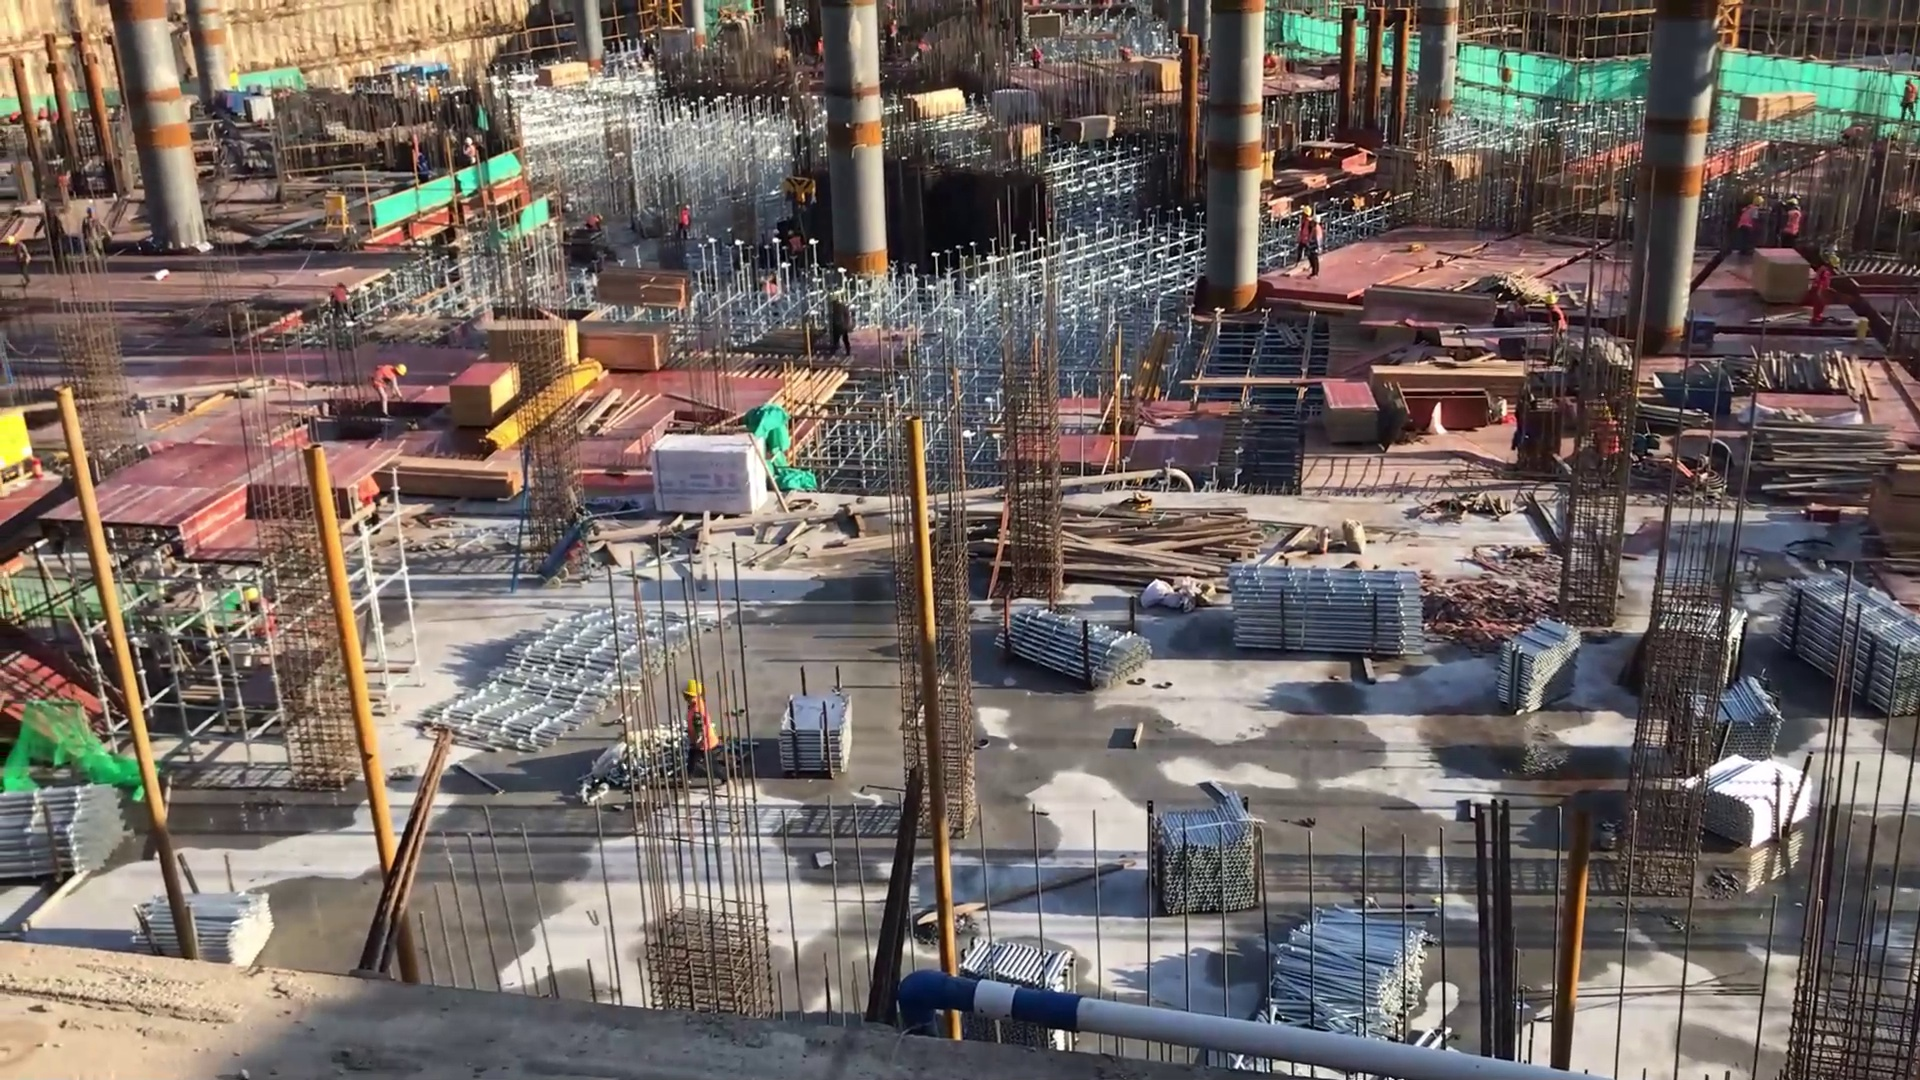board: (448, 359, 525, 436), (1319, 380, 1386, 447)
ebox: (1, 407, 33, 488), (315, 187, 358, 244)
helmet: (683, 677, 708, 705), (1543, 292, 1560, 309), (1826, 252, 1842, 269), (394, 363, 411, 377), (1521, 292, 1534, 305), (1786, 197, 1800, 209), (1300, 206, 1313, 218), (416, 151, 427, 163), (1751, 195, 1764, 206), (465, 134, 475, 149), (1312, 214, 1323, 226), (787, 229, 795, 237)
hook: (1645, 373, 1733, 428)
person: (676, 673, 725, 794), (1809, 247, 1848, 332), (1734, 190, 1768, 265), (365, 360, 412, 415), (1542, 291, 1572, 363), (350, 467, 380, 537), (1294, 198, 1317, 280), (1490, 290, 1533, 333), (7, 234, 37, 294), (1780, 189, 1805, 257), (82, 204, 111, 259), (1306, 214, 1326, 284), (327, 275, 354, 322), (412, 152, 435, 191), (1901, 73, 1919, 126), (676, 205, 697, 247), (785, 228, 807, 266), (462, 136, 481, 171), (587, 212, 606, 236), (1032, 41, 1046, 76), (1118, 43, 1136, 67), (817, 34, 827, 66)
scaffold: (1262, 905, 1448, 1071), (1784, 563, 1920, 724), (1227, 563, 1426, 660), (1144, 787, 1269, 927), (995, 595, 1155, 692), (977, 926, 1097, 1039), (1, 789, 136, 883), (137, 887, 281, 970), (1673, 676, 1788, 778), (1492, 613, 1587, 734)
vest: (684, 701, 720, 754), (368, 363, 398, 393), (1782, 205, 1803, 241), (1813, 264, 1834, 297), (1736, 204, 1761, 231), (1550, 305, 1568, 336), (1309, 225, 1324, 258), (330, 286, 349, 308)
wood: (1060, 497, 1253, 588), (1754, 422, 1892, 499), (1369, 357, 1528, 405), (371, 457, 522, 505), (1863, 457, 1920, 571), (592, 264, 690, 319), (573, 319, 667, 375), (1734, 87, 1820, 127), (900, 85, 975, 122), (1056, 110, 1126, 146), (532, 62, 592, 88)
